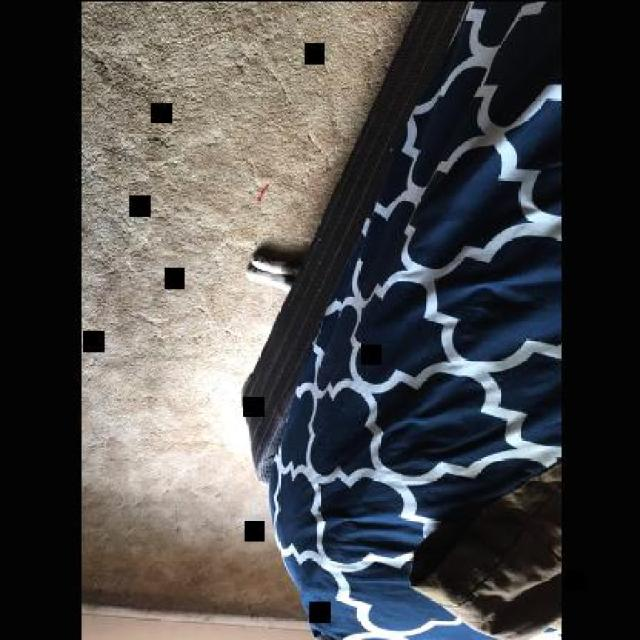unauthorized: (241, 0, 563, 638)
